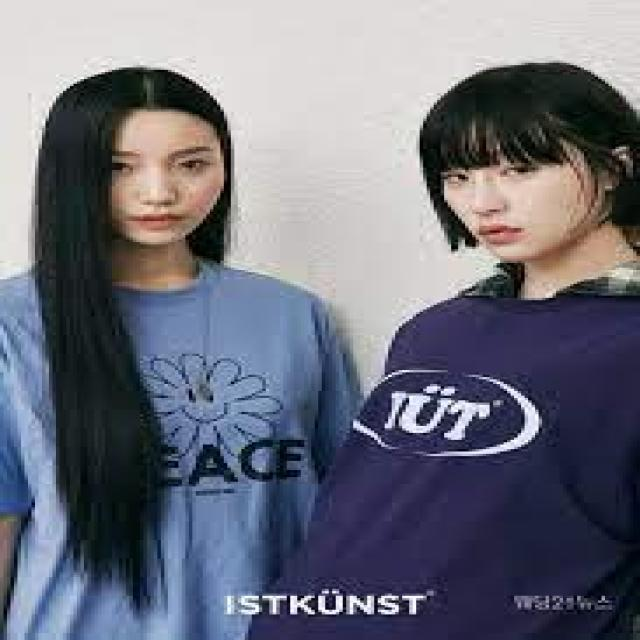Tshirt: (276, 237, 640, 640), (4, 255, 360, 639)
